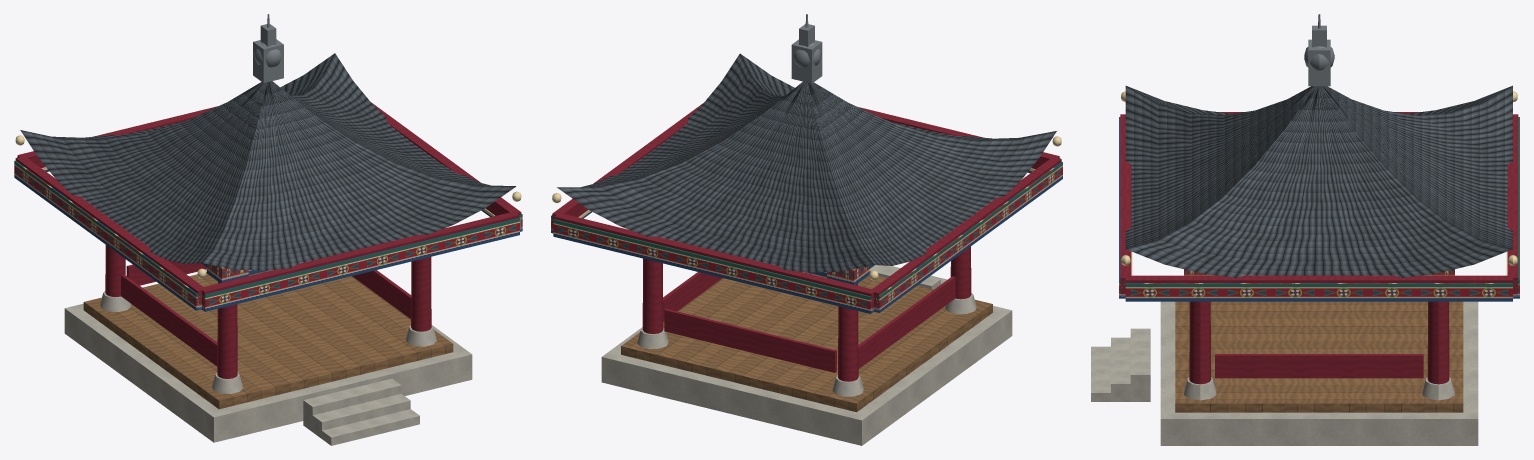
The model's file is pavilion-placeholder.glb.
The picture shows the model from 3 angles, left to right: view 1: azimuth 30°, elevation 25°; view 2: azimuth 150°, elevation 25°; view 3: azimuth 270°, elevation 25°; orthographic projection. The views are drawn at different scales.
Visible parts, largest first — view 1: pavilion_placeholder; view 2: pavilion_placeholder; view 3: pavilion_placeholder.
Part boxes in pixels (x1,y1,x2,y2): pavilion_placeholder: (14, 14, 522, 445); pavilion_placeholder: (551, 14, 1062, 445); pavilion_placeholder: (1091, 14, 1519, 445).
Size of the model in its own units: 8.08 by 8.1 by 8.64.
Materials: 12 (5 with a texture image).
